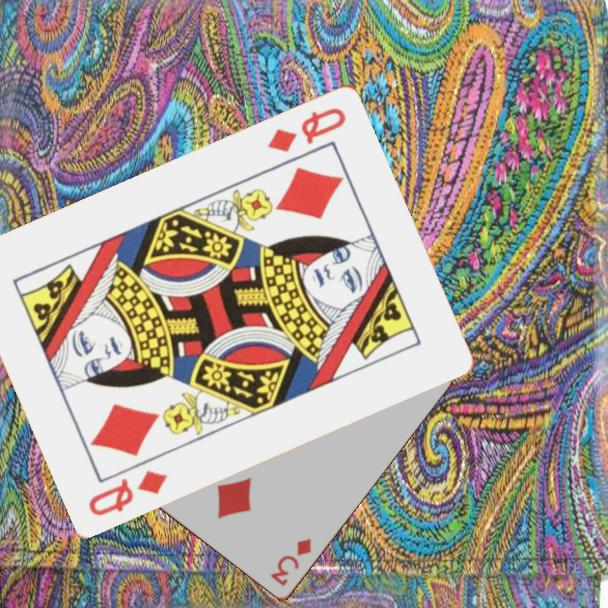d03: (267, 535, 314, 590)
d12: (85, 465, 171, 518), (263, 103, 349, 155)
